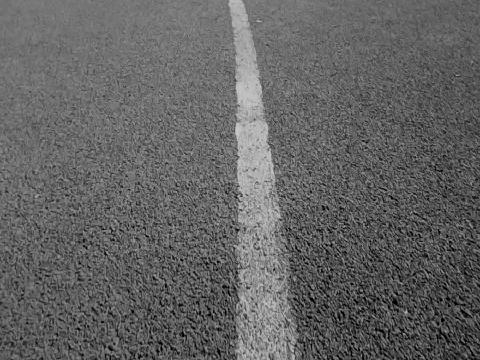Lines: (228, 0, 301, 360)
